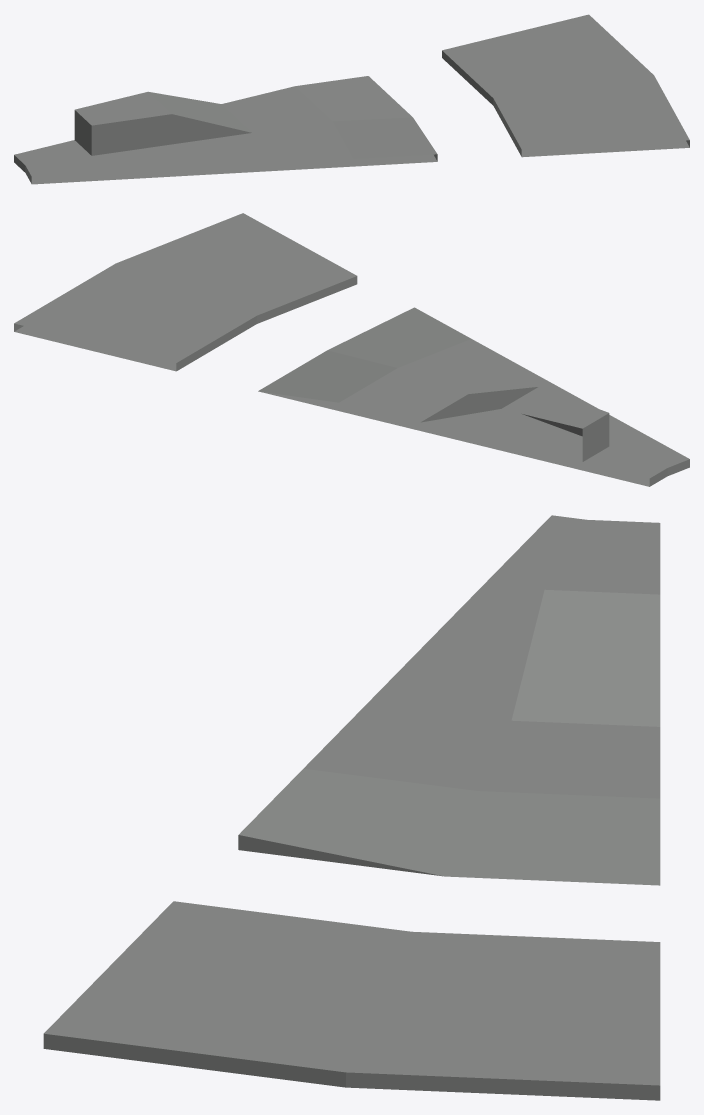
Rendered from middle_05.obj.
3 views of the same model, one above another, from view 1: azimuth 30°, elevation 25°; view 2: azimuth 150°, elevation 25°; view 3: azimuth 270°, elevation 25° (orthographic). The views are drawn at different scales.
Visible parts, largest first — view 1: Cylinder.024; view 2: Cylinder.024; view 3: Cylinder.024.
Part boxes in pixels (x1=…): Cylinder.024: x1=14, y1=14, x2=689, y2=184; Cylinder.024: x1=14, y1=213, x2=689, y2=486; Cylinder.024: x1=43, y1=515, x2=660, y2=1100.
Bounding box in the file's own units: 32.26 × 2 × 14.74.
